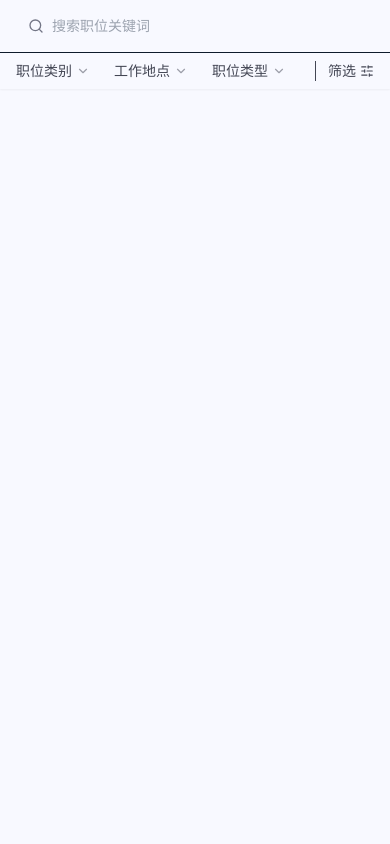
user jobs page filters › opens embedded category panel inside mobile dropdown when clicking 职位类别
Click the button "职位类别" at coordinates (53, 71), box [16,61,90,81]
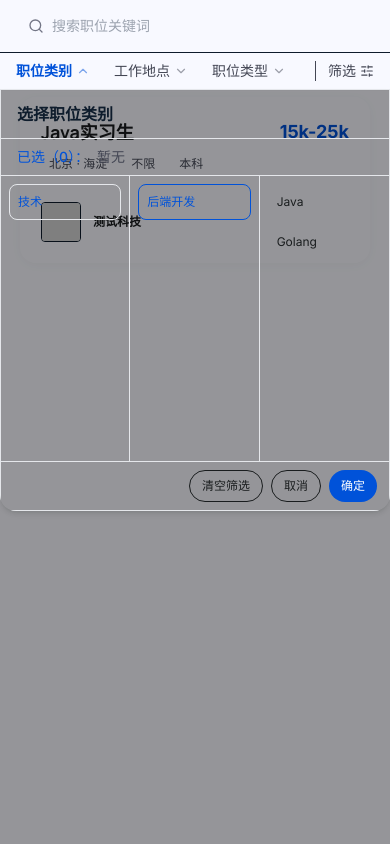
Result: the text "选择职位类别" is shown at [1,90,389,139]
Result: the button "技术" is shown at [9,184,121,220]
Result: the button "后端开发" is shown at [138,184,251,220]
